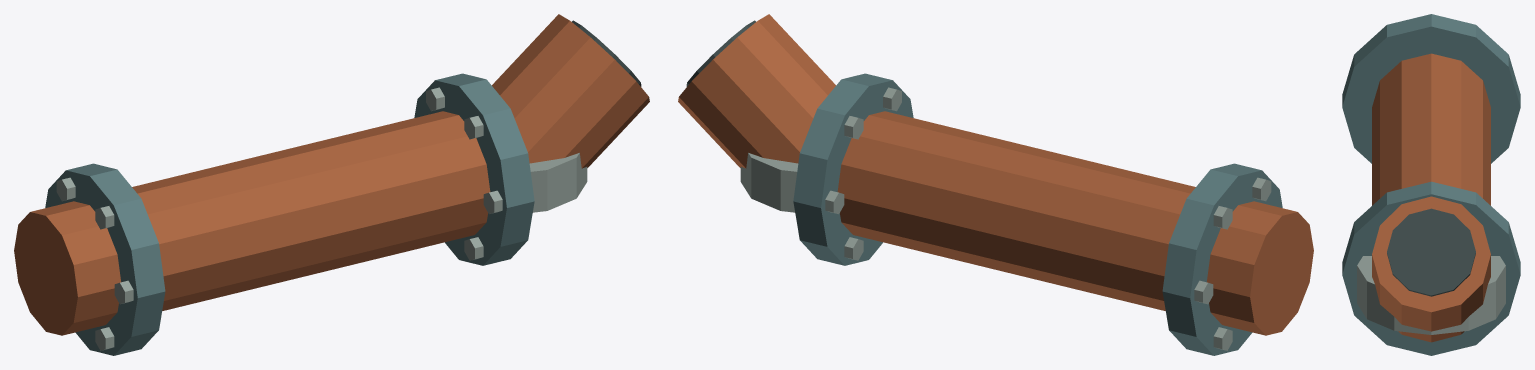
The model's file is Pipe_Broken_3m.glb.
The picture shows the model from 3 angles, left to right: view 1: azimuth 30°, elevation 25°; view 2: azimuth 150°, elevation 25°; view 3: azimuth 270°, elevation 25°; orthographic projection. The views are drawn at different scales.
Visible parts, largest first — view 1: Pipe_Broken_3m; view 2: Pipe_Broken_3m; view 3: Pipe_Broken_3m.
Boxes of the visible parts, x1=… form: Pipe_Broken_3m: x1=14, y1=14, x2=649, y2=355; Pipe_Broken_3m: x1=678, y1=14, x2=1313, y2=355; Pipe_Broken_3m: x1=1342, y1=14, x2=1520, y2=355.
Bounding box in the file's own units: 2.57 × 0.8787 × 0.72.
